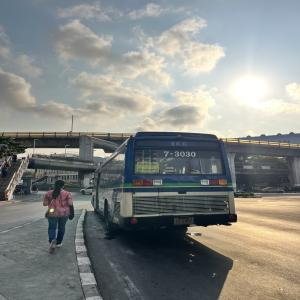BMTA-bus: (91, 132, 238, 234)
Bus Line Number: (167, 140, 191, 150)
Bus Side Number: (159, 149, 199, 158)
Destination Sign: (136, 161, 158, 173)
